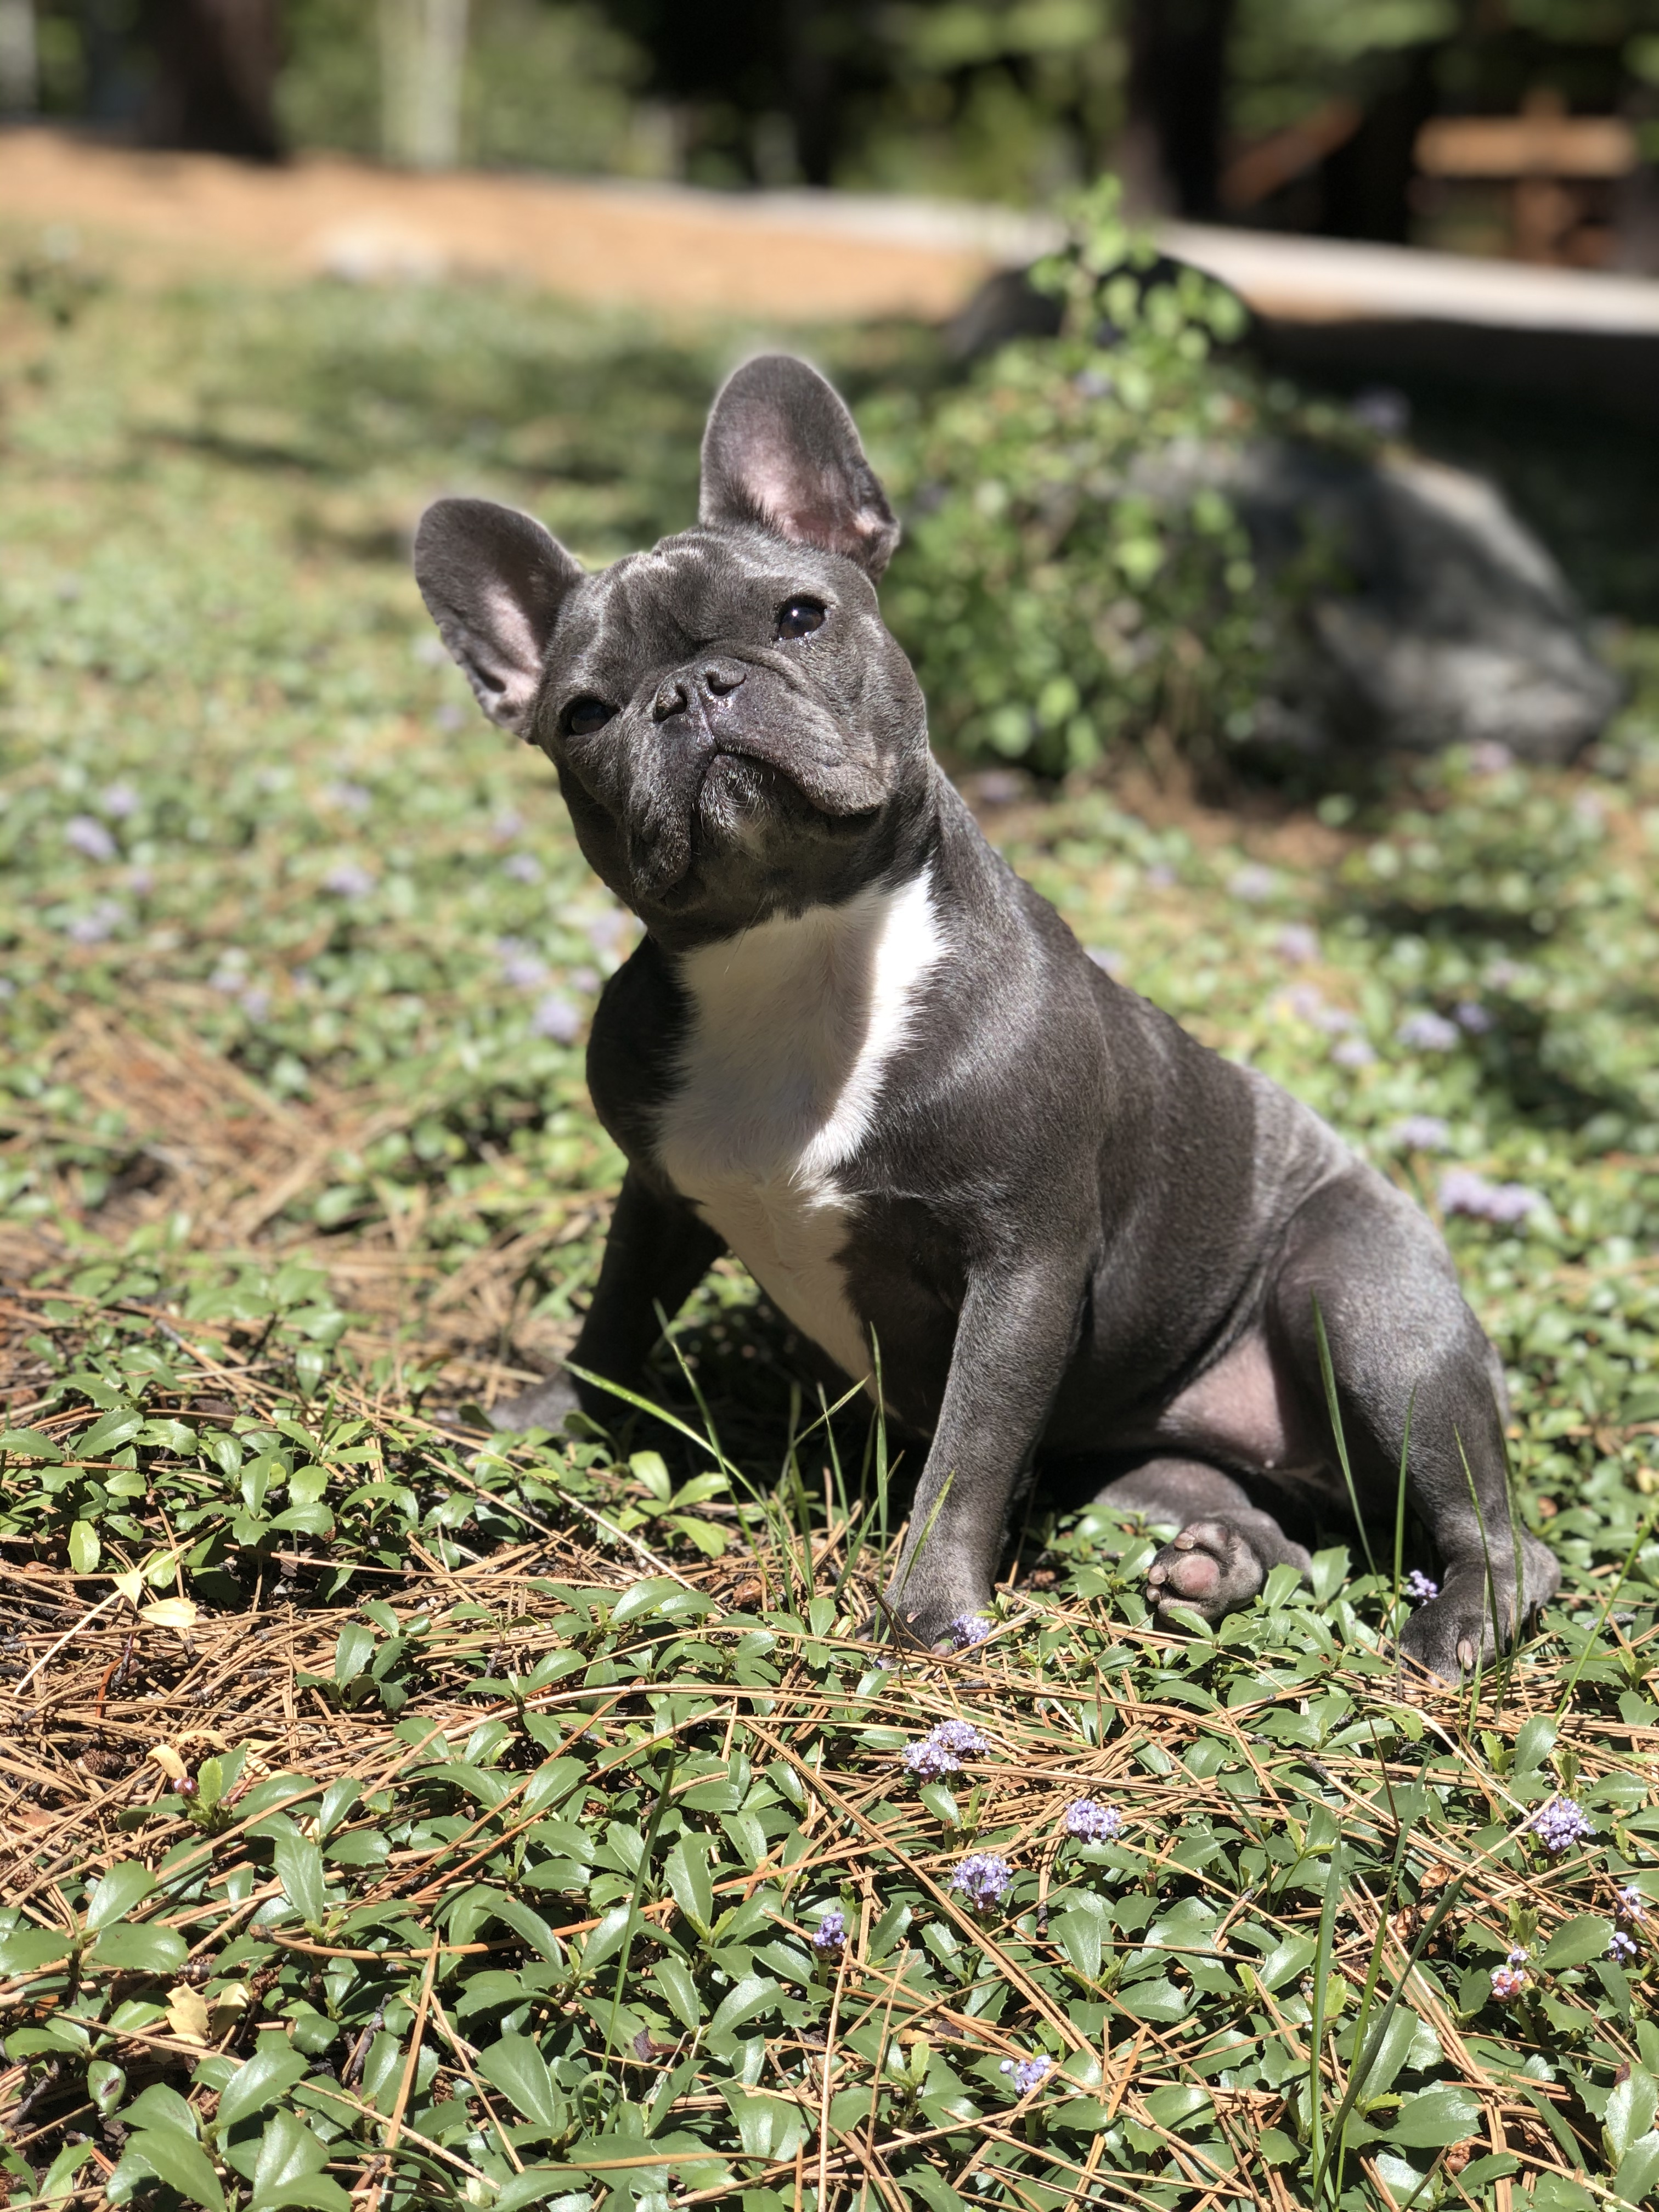lucy: (390, 347, 1560, 1677)
